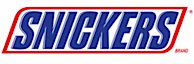snickers: (10, 10, 179, 49), (8, 32, 138, 49), (151, 21, 153, 23)
